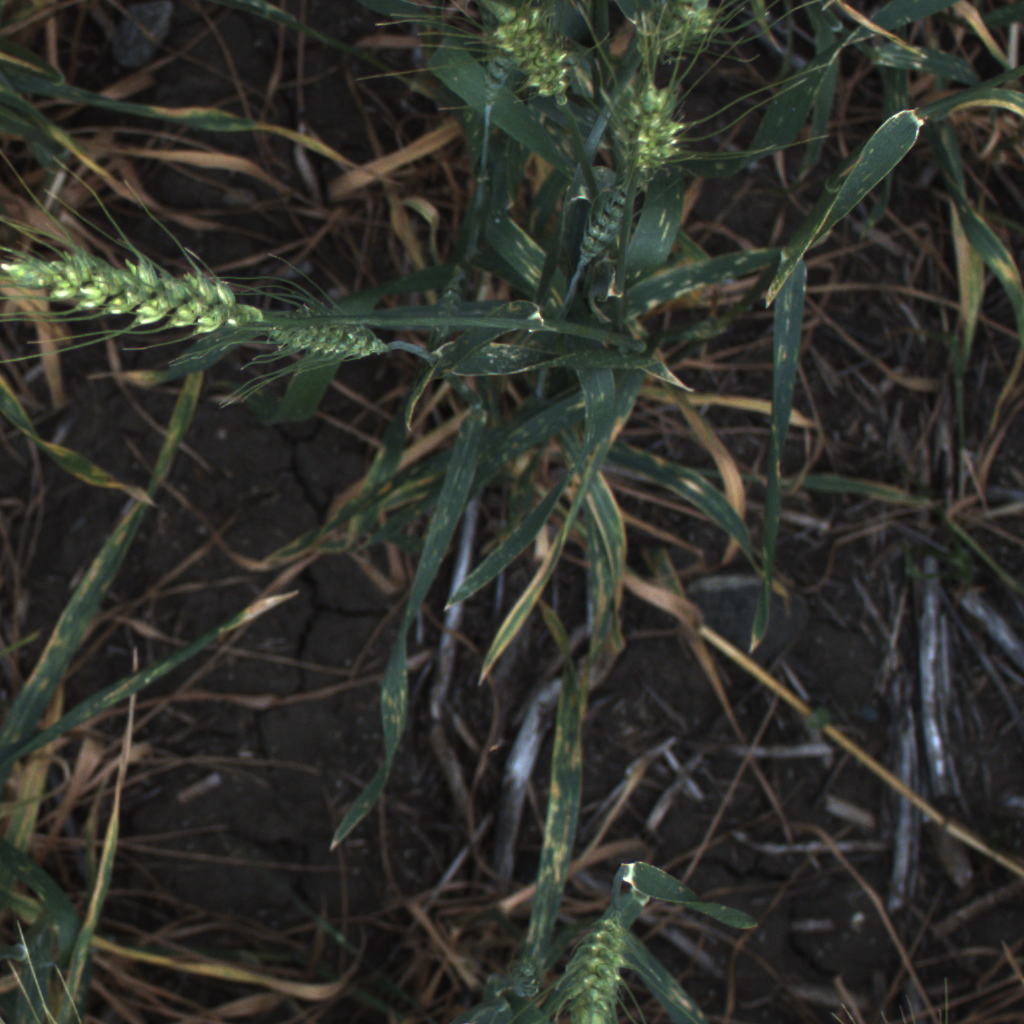wheat_head: (0, 232, 235, 335), (235, 282, 399, 375), (541, 886, 651, 1024), (478, 1, 586, 111), (602, 74, 690, 208), (570, 175, 634, 278), (661, 0, 733, 50), (620, 0, 676, 53)
